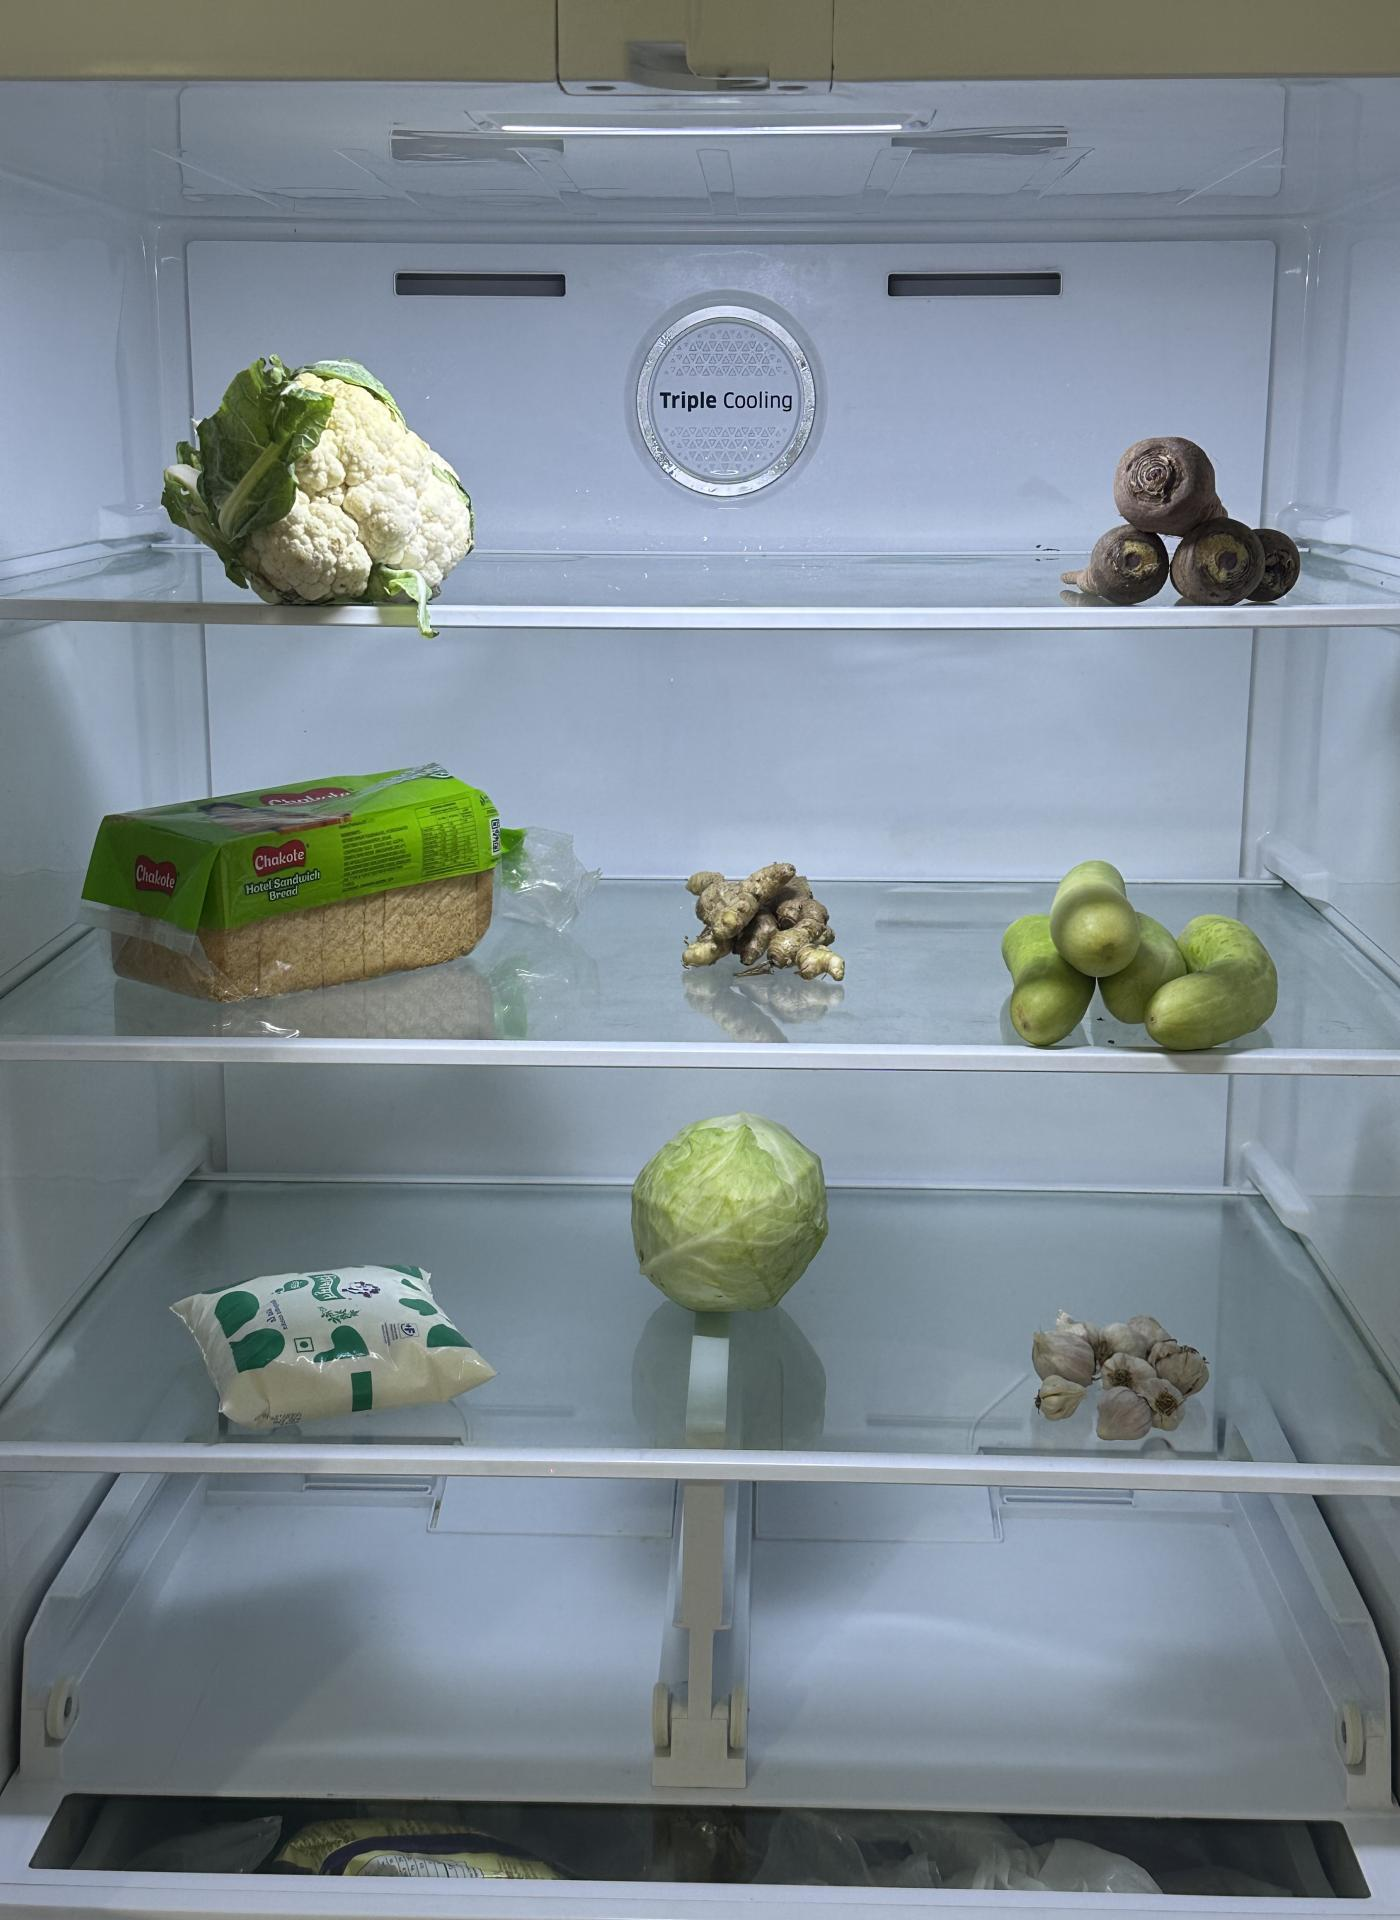bread: (70, 768, 547, 1008)
cabbage: (623, 1111, 854, 1325)
carrots: (1075, 425, 1309, 623)
cauliflower: (158, 358, 477, 596)
cucumber: (987, 844, 1269, 1054)
garlic: (1024, 1297, 1224, 1458)
ginger: (677, 863, 865, 1008)
milk: (158, 1243, 495, 1443)
